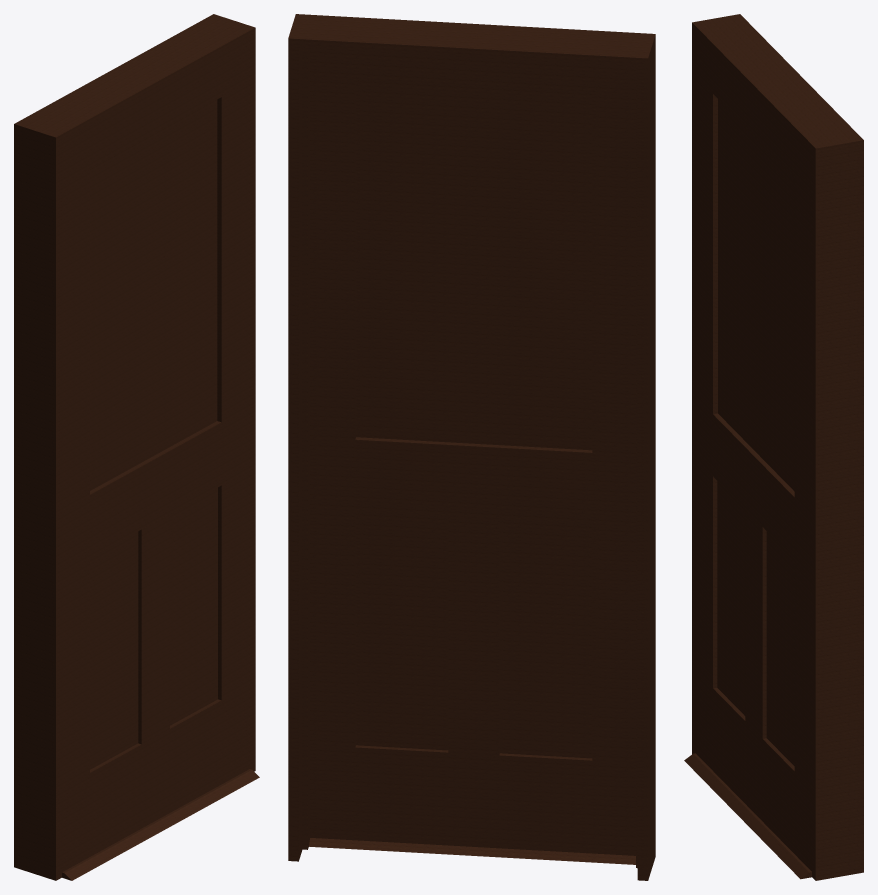
The model's file is RearDoor_01.fbx.
The picture shows the model from 3 angles, left to right: view 1: azimuth 30°, elevation 25°; view 2: azimuth 150°, elevation 25°; view 3: azimuth 270°, elevation 25°; orthographic projection. The views are drawn at different scales.
Parts seen in each view (by area): view 1: M_Door-Exterior-Single-Entry-Half_Flat_Glass-Wood_Clad_NOTRI; view 2: M_Door-Exterior-Single-Entry-Half_Flat_Glass-Wood_Clad_NOTRI; view 3: M_Door-Exterior-Single-Entry-Half_Flat_Glass-Wood_Clad_NOTRI.
Boxes of the visible parts, x1=… form: M_Door-Exterior-Single-Entry-Half_Flat_Glass-Wood_Clad_NOTRI: x1=14, y1=14, x2=259, y2=880; M_Door-Exterior-Single-Entry-Half_Flat_Glass-Wood_Clad_NOTRI: x1=288, y1=14, x2=655, y2=880; M_Door-Exterior-Single-Entry-Half_Flat_Glass-Wood_Clad_NOTRI: x1=684, y1=14, x2=863, y2=880.
Bounding box in the file's own units: 83.77 × 47.3 × 212.
1 material, 1 textured.
